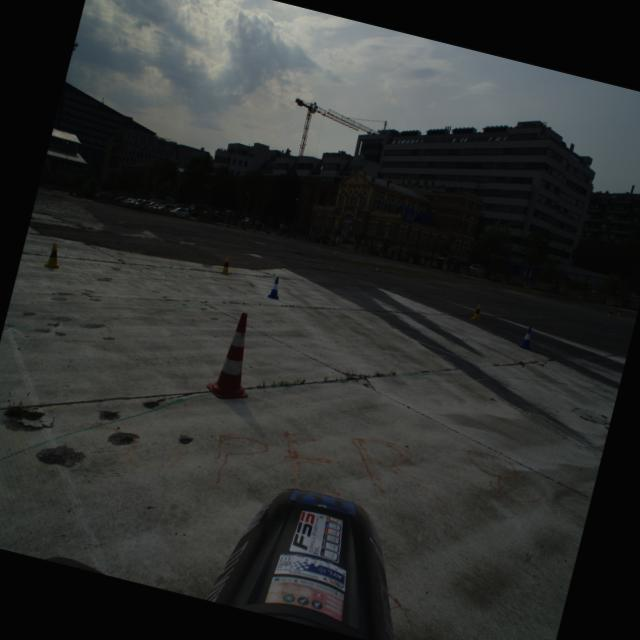blue_cone: (517, 325, 537, 350), (267, 276, 283, 300)
large_orange_cone: (204, 308, 267, 404)
yellow_cone: (41, 240, 66, 270), (219, 255, 233, 275), (470, 302, 484, 322), (606, 308, 614, 318), (616, 308, 622, 316)
